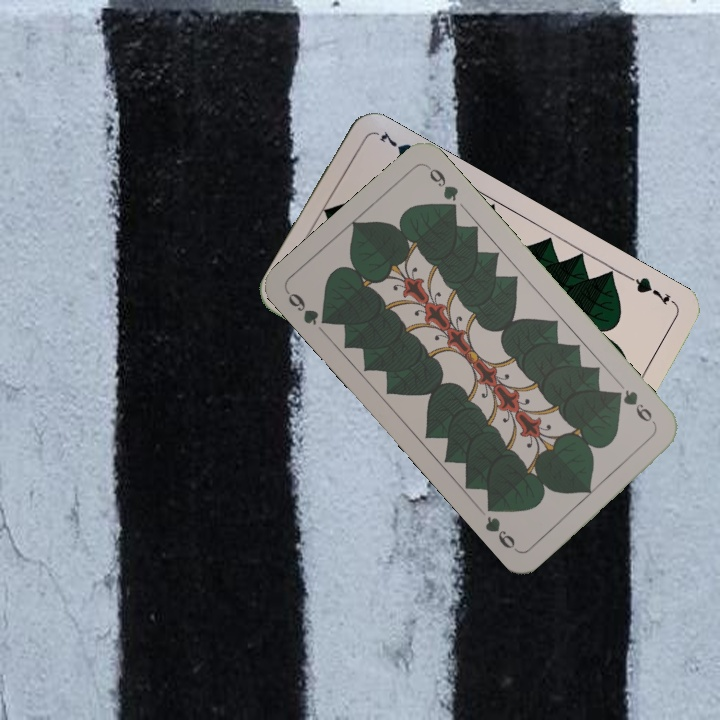G7: (625, 272, 679, 308)
G9: (609, 385, 659, 429), (282, 288, 335, 328)
